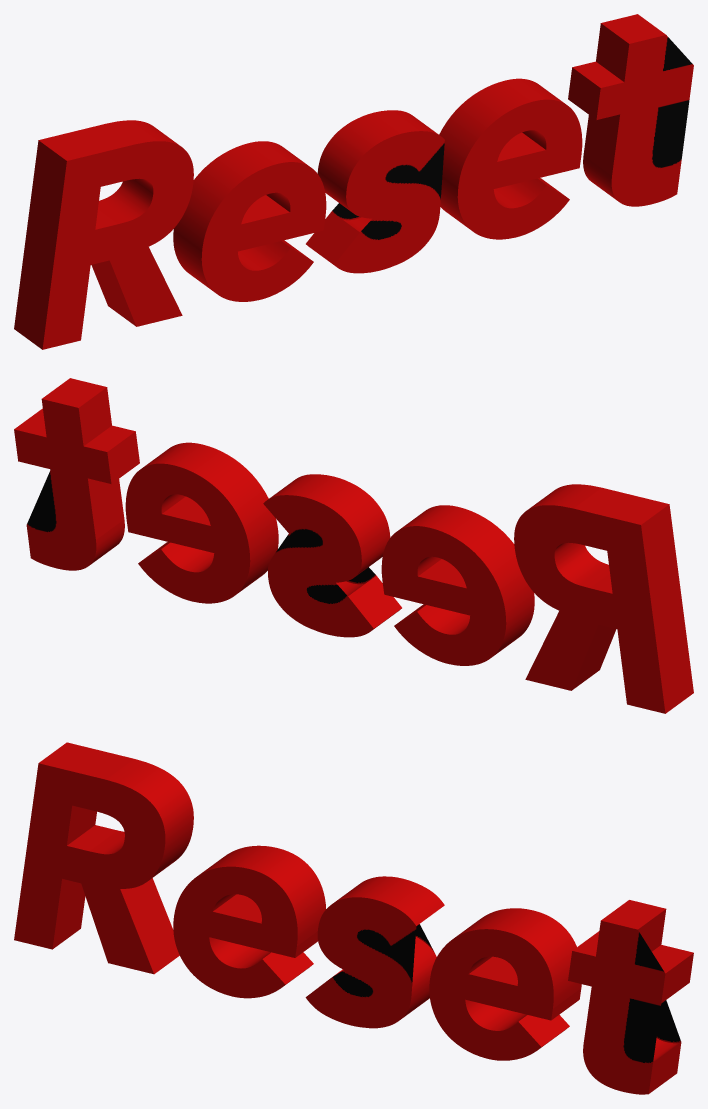
Rendered from Reset.fbx.
The picture shows the model from 3 angles, top to bottom: view 1: azimuth 30°, elevation 25°; view 2: azimuth 150°, elevation 25°; view 3: azimuth 330°, elevation 25°; orthographic projection.
Visible parts, largest first — view 1: Cap_1, Extrude_NURBS_1; view 2: Cap_2, Extrude_NURBS_1; view 3: Cap_1, Extrude_NURBS_1, Cap_2.
Boxes of the visible parts, box(x1,y1,x2,y2) form: Cap_1: box(42, 35, 693, 349); Extrude_NURBS_1: box(14, 14, 665, 349); Cap_2: box(14, 399, 665, 713); Extrude_NURBS_1: box(14, 378, 693, 713); Cap_1: box(14, 763, 665, 1094); Extrude_NURBS_1: box(39, 742, 693, 1093); Cap_2: box(415, 924, 681, 1043).
Size of the model in its own units: 528 by 144 by 40.
Materials: 3 (3 with a texture image).
